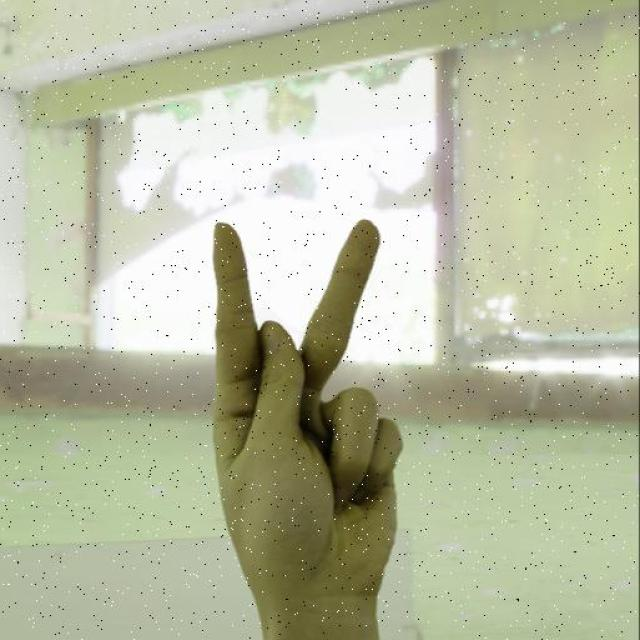K: (206, 214, 408, 598)
